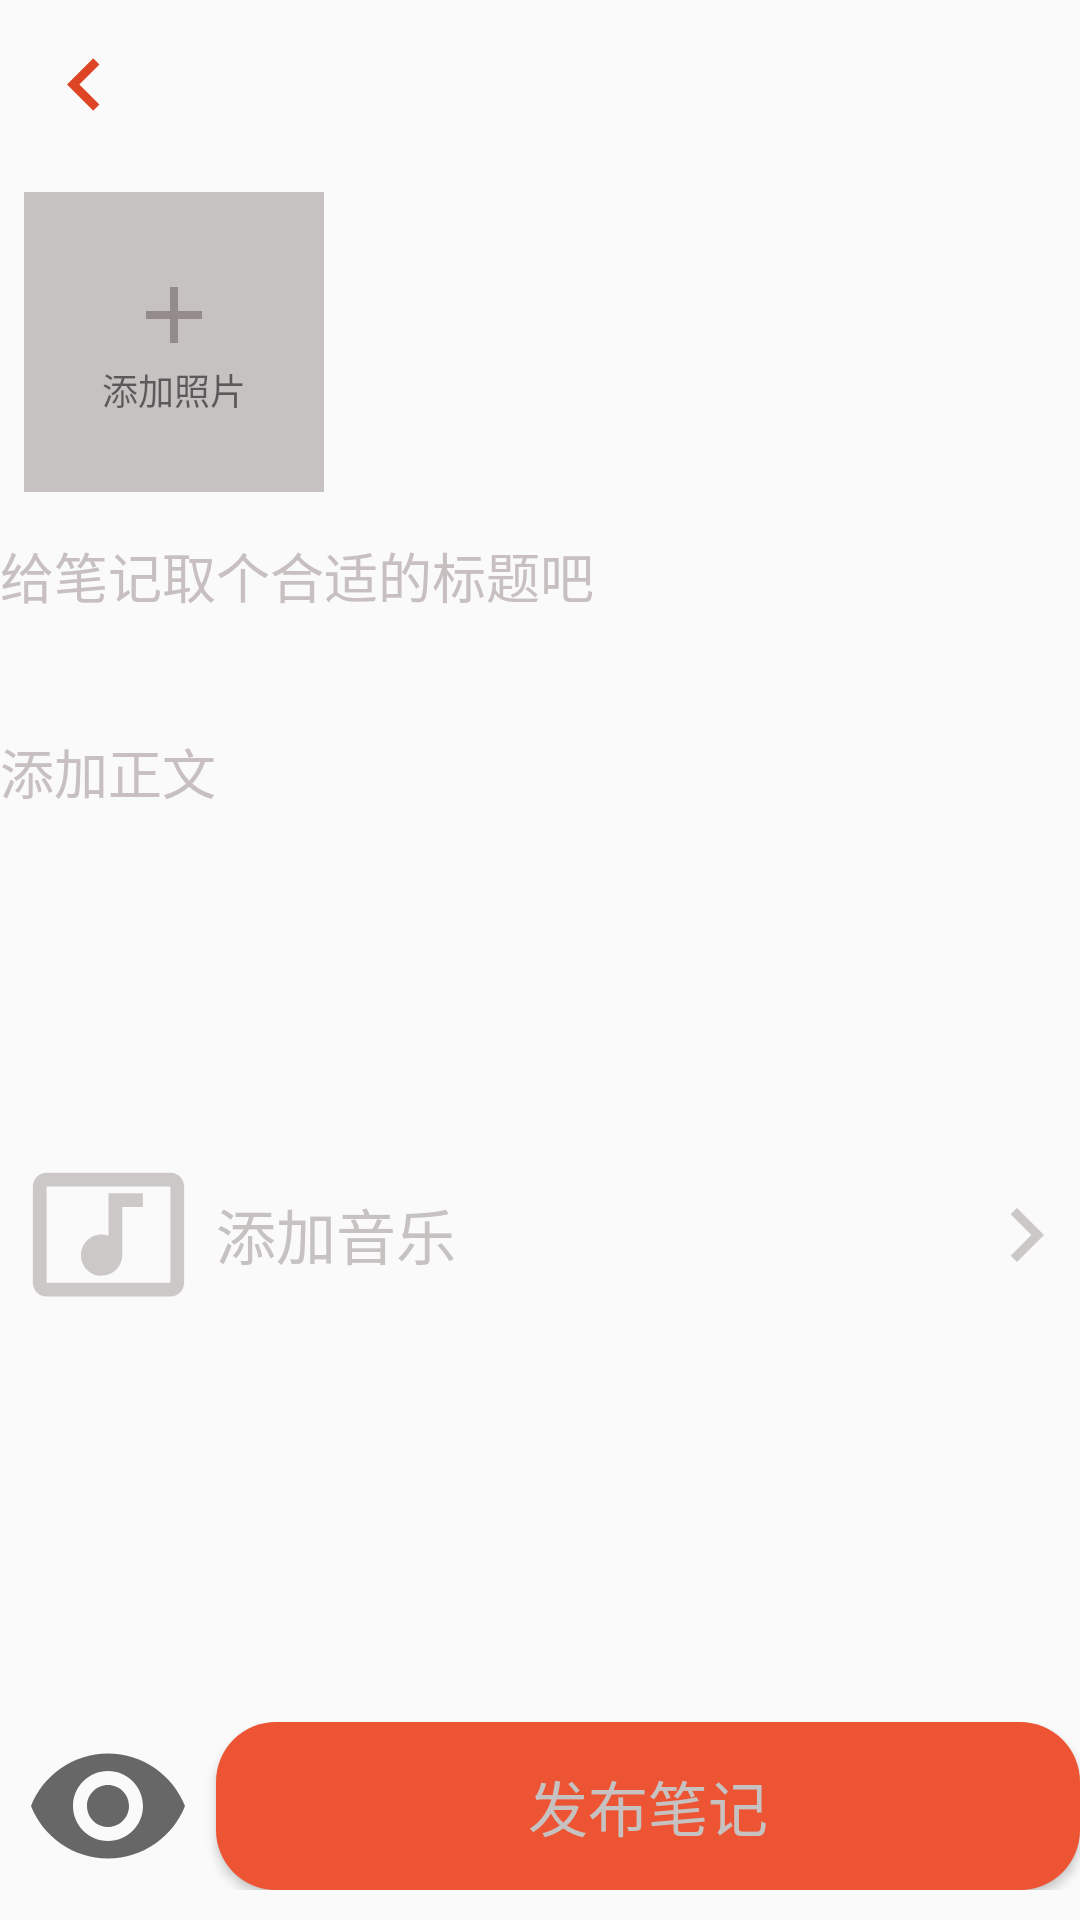

Locate icon controls on the screen. Image size 1080w x 1920h, boxes as (x1, y1, x2, y2).
chevron right: (1011, 1208, 1044, 1262)
music video: (33, 1173, 184, 1297)
